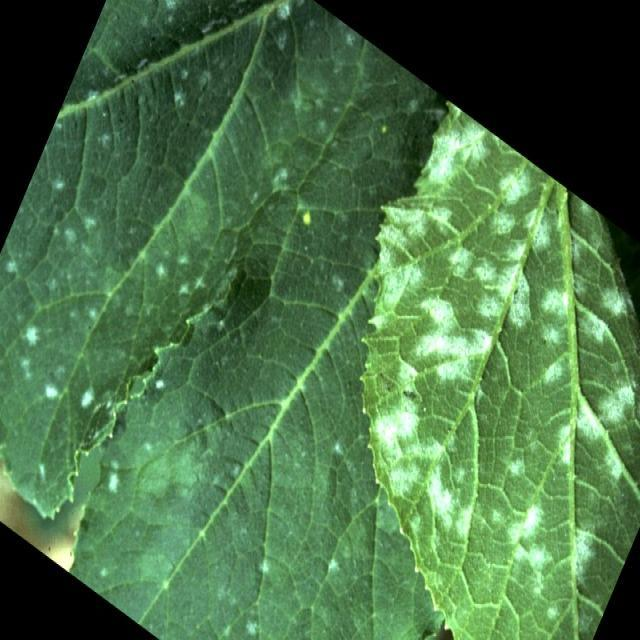Leaf_Mold: (0, 5, 640, 640), (15, 163, 315, 340), (449, 263, 615, 560), (188, 468, 366, 622)
